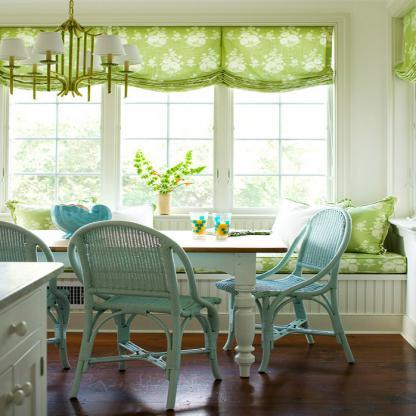chair: (69, 204, 217, 414), (220, 199, 367, 377), (0, 207, 68, 368)
sofa: (70, 211, 408, 338)
